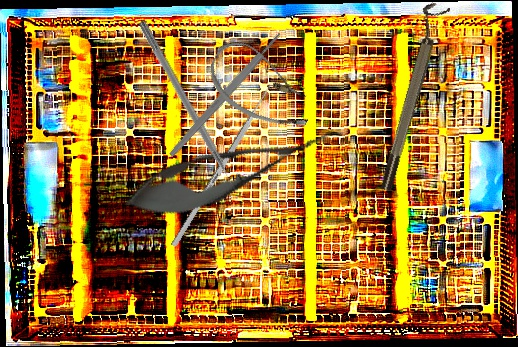Cannula: (198, 32, 327, 141)
Fixation Ring: (369, 0, 451, 193)
Micro Scissor: (117, 111, 338, 232)
Pusher: (135, 19, 243, 200), (170, 75, 279, 248)
Scalpel Handle: (167, 30, 284, 159)
